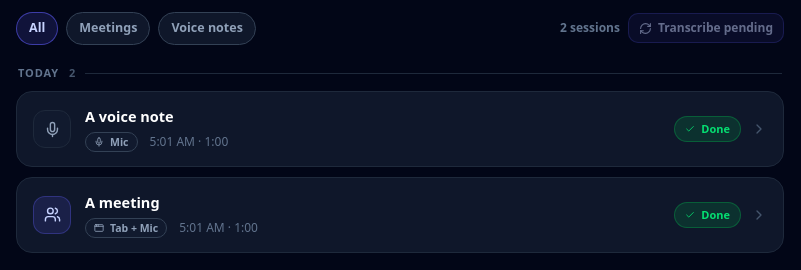
SessionList › filter chips split meetings (source != mic) from voice notes
expect the text "A voice note" is shown: met, box [85,106,174,126]
expect the text "A meeting" is shown: met, box [85,192,160,212]
Click the button "Meetings". click: (108, 28)
box: [66,12,150,45]
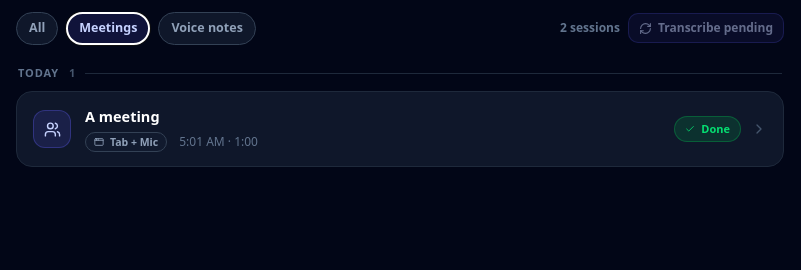
expect the text "A meeting" is shown: met, box [85,106,160,126]
expect the link "A voice note" is gone: met
Click the button "Voice notes". click: (207, 28)
box: [158,12,256,45]
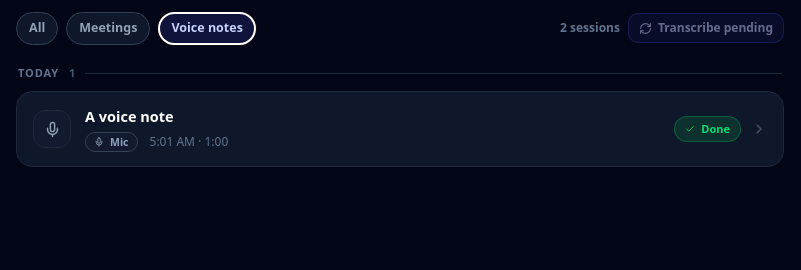
expect the text "A voice note" is shown: met, box [85,106,174,126]
expect the link "A meeting" is gone: met
